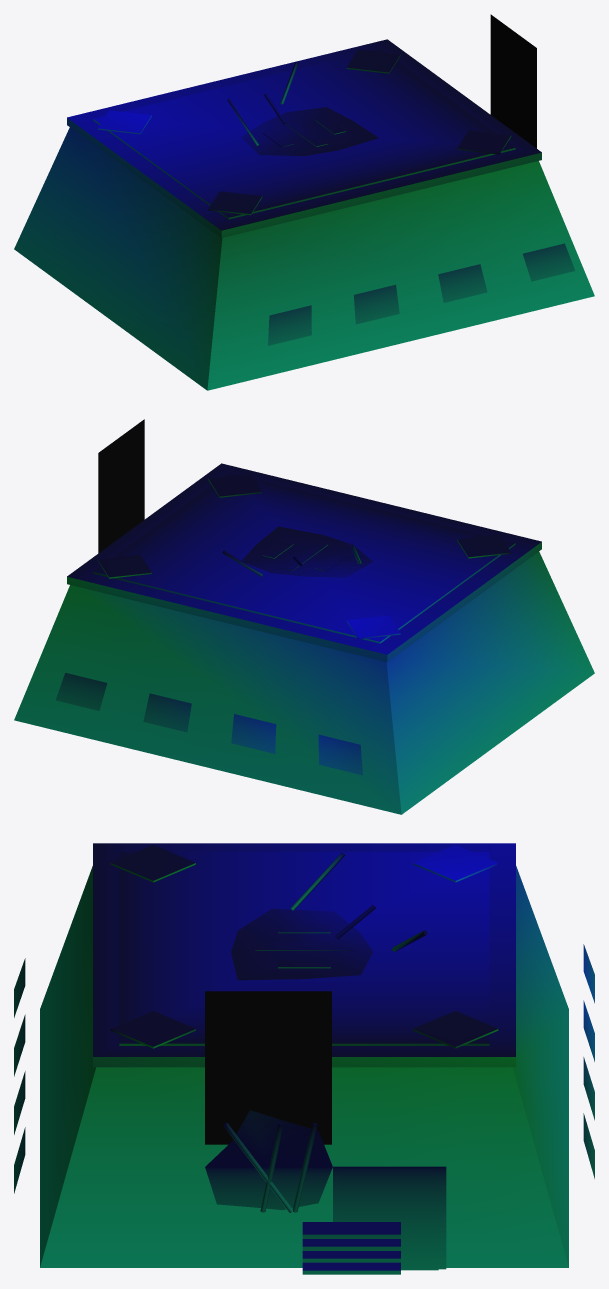
Rendered from ammodump_damaged.glb.
3 views of the same model, one above another, from view 1: azimuth 30°, elevation 25°; view 2: azimuth 150°, elevation 25°; view 3: azimuth 270°, elevation 25° (orthographic). The views are drawn at different scales.
Visible parts, largest first — view 1: lod0; view 2: lod0; view 3: lod0.
Boxes of the visible parts, <box> form: lod0: <box>14,14,594,390</box>; lod0: <box>14,419,594,814</box>; lod0: <box>14,843,594,1274</box>.
Size of what is drawn, in the model's own units: 17.15 by 8.12 by 15.38.
